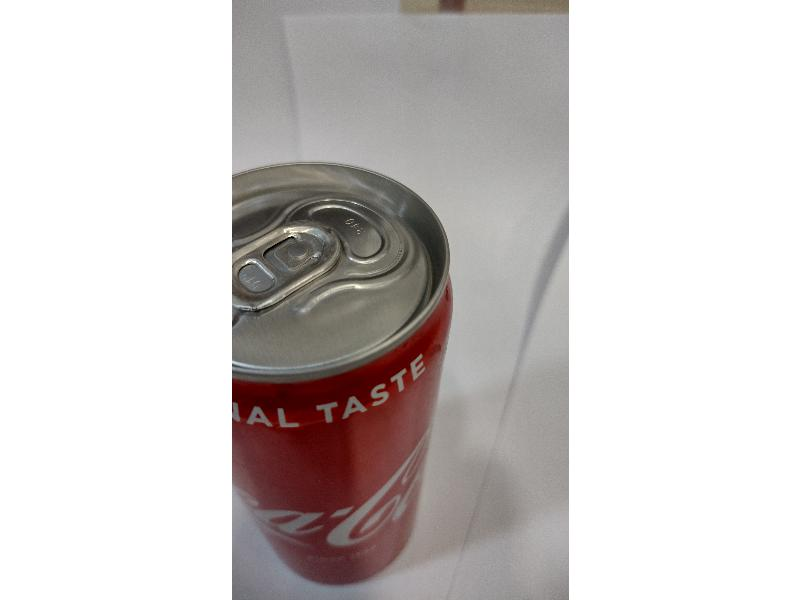can: (233, 155, 456, 577)
